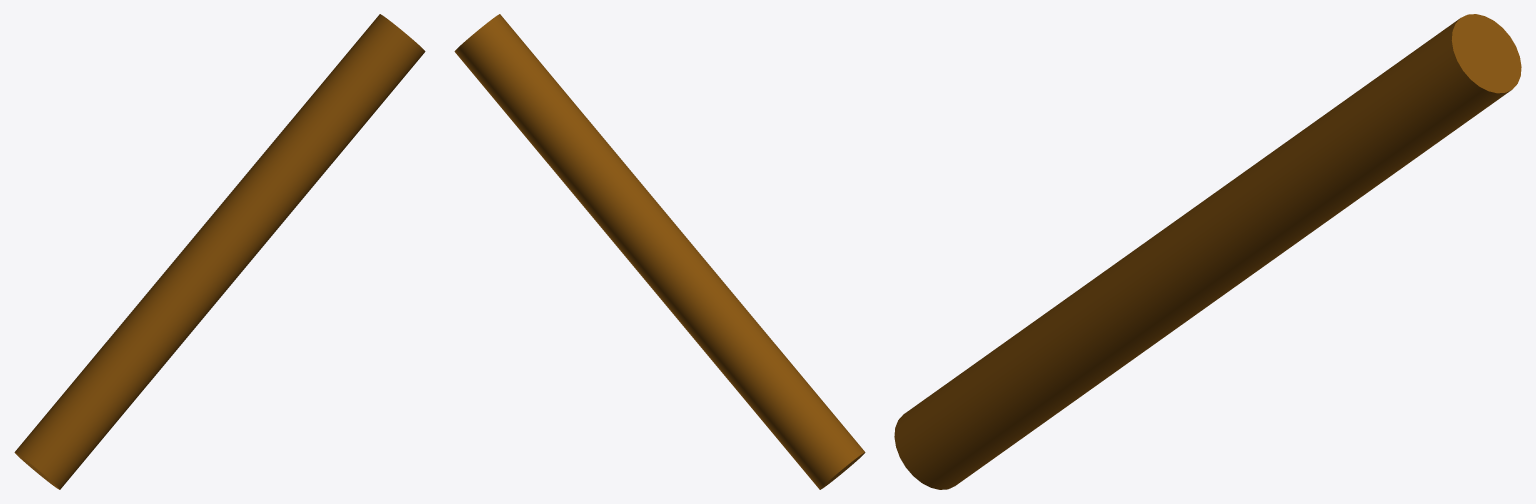
The model's file is original-21.obj.
The picture shows the model from 3 angles, left to right: view 1: azimuth 30°, elevation 25°; view 2: azimuth 150°, elevation 25°; view 3: azimuth 330°, elevation 25°; orthographic projection. The views are drawn at different scales.
Visible parts, largest first — view 1: mesh33/mesh33-geometry#mesh33-geometry; view 2: mesh33/mesh33-geometry#mesh33-geometry; view 3: mesh33/mesh33-geometry#mesh33-geometry.
Boxes of the visible parts, box(x1,y1,x2,y2) form: mesh33/mesh33-geometry#mesh33-geometry: box(14, 14, 425, 489); mesh33/mesh33-geometry#mesh33-geometry: box(454, 14, 865, 489); mesh33/mesh33-geometry#mesh33-geometry: box(894, 14, 1521, 489).
Size of the model in its own units: 0.2511 by 0.2331 by 0.0336.
